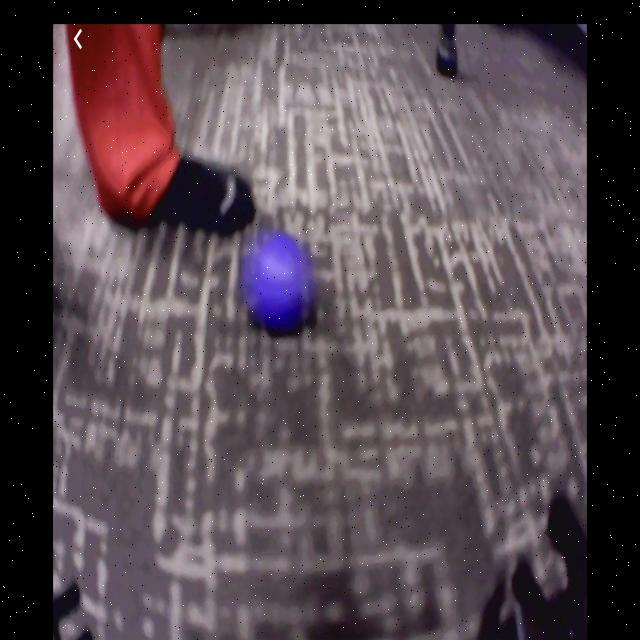ball: (250, 236, 312, 330)
